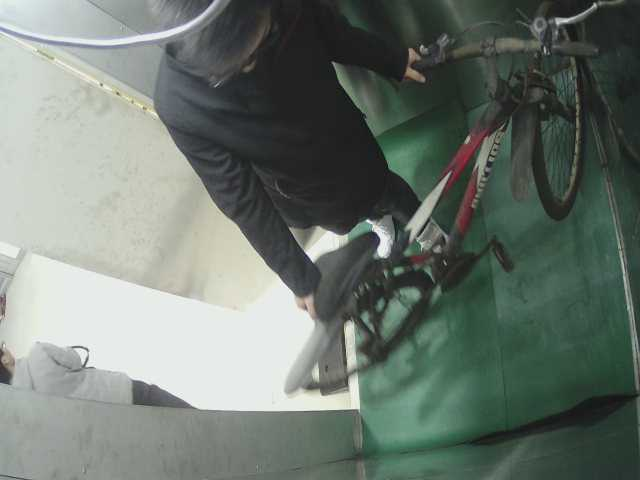bicycle: (273, 2, 604, 407)
person: (138, 4, 447, 255)
